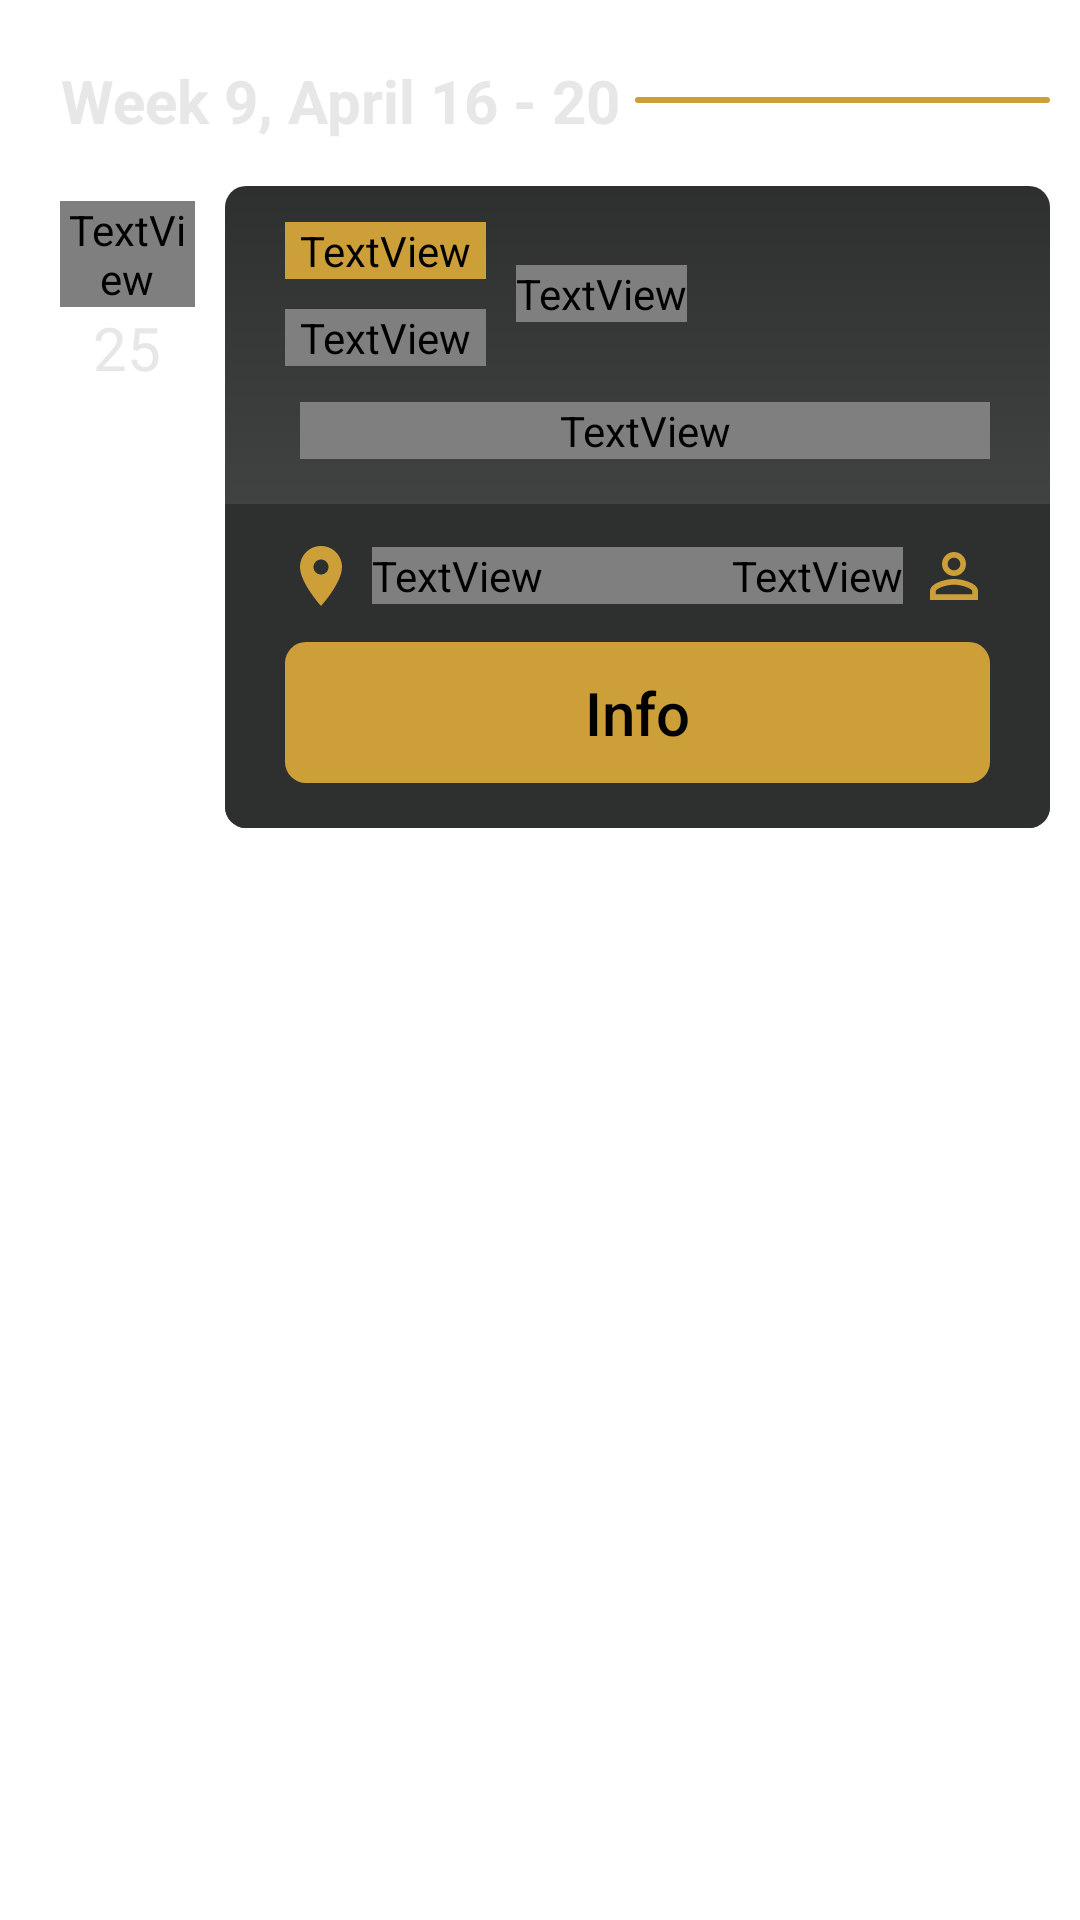

Screen size 1080px×1920px. Icon name, then its box in pixels as bbox=(x1, y1, x2, y2):
location: bbox=(300, 546, 342, 606)
person: bbox=(930, 552, 978, 600)
